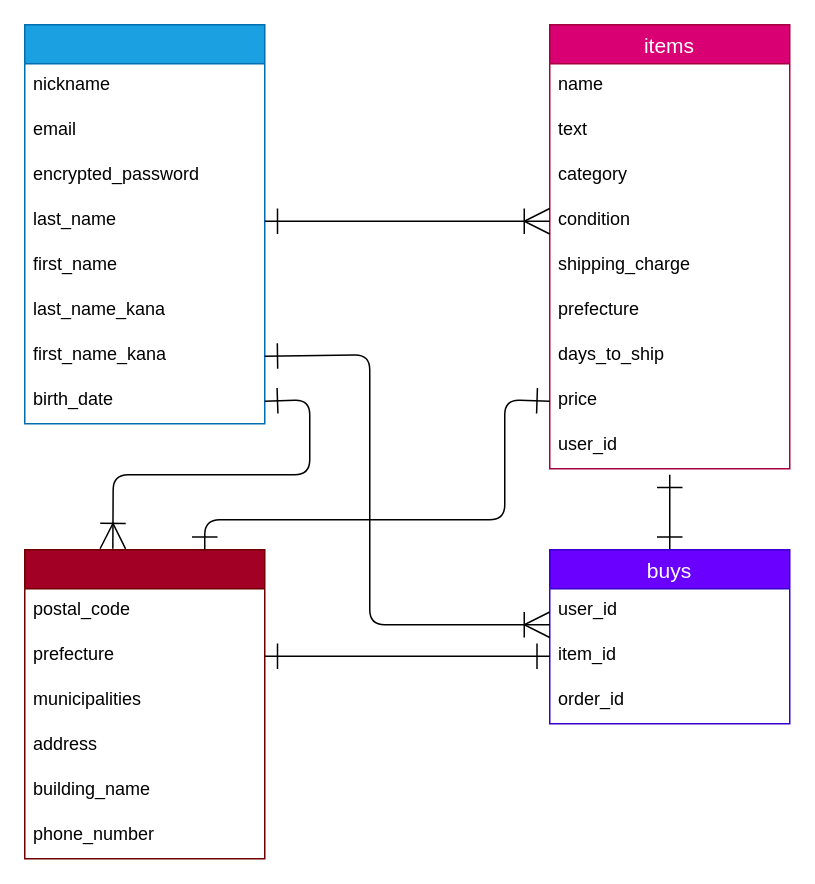
The diagram is 815 pixels wide and 884 high, and some of its shapes have lost their labels. Here are the shapes that lost their labels. From the top down, the box of each, then its label:
(23, 23, 265, 424): users
(23, 548, 265, 859): orders
